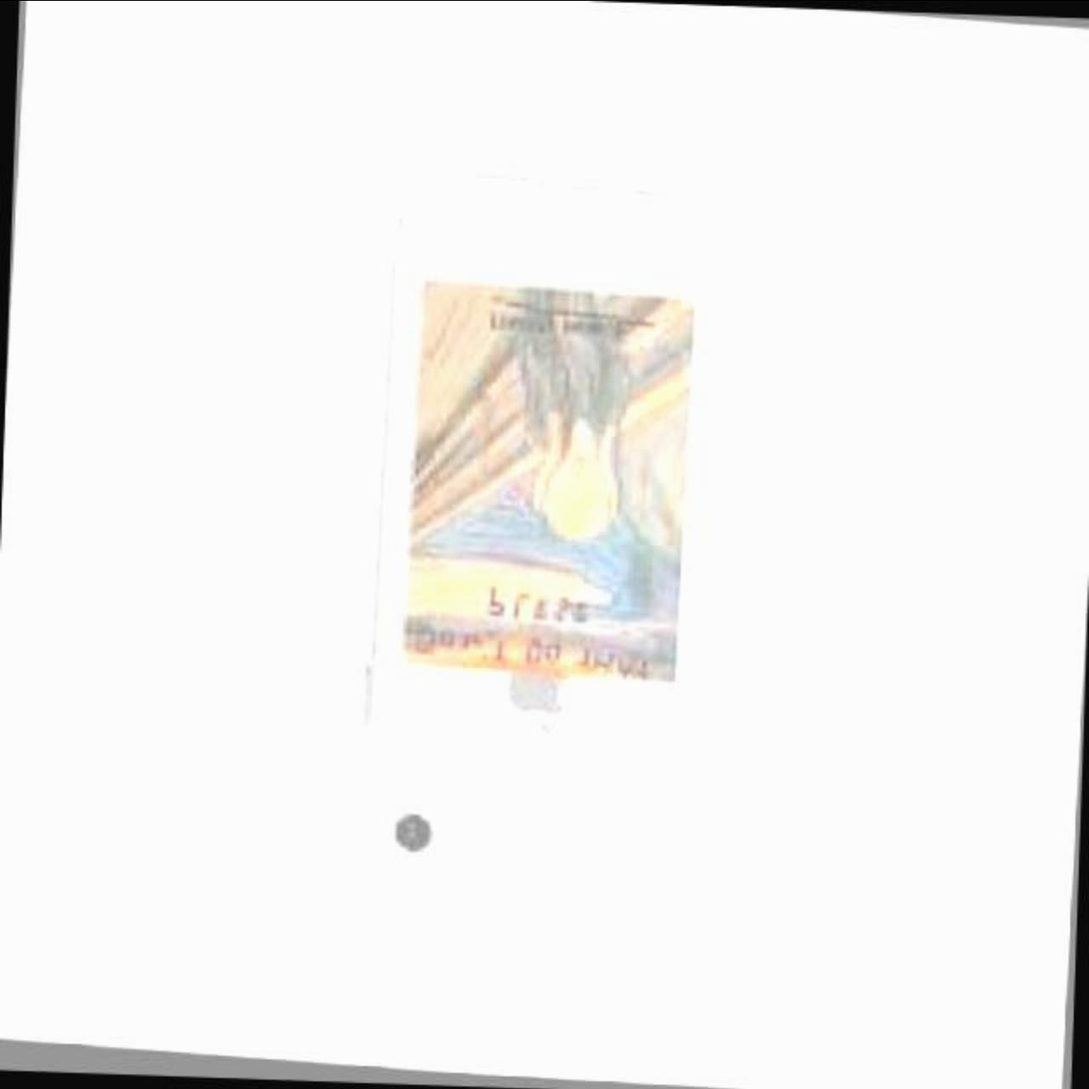phone: (369, 165, 723, 905)
